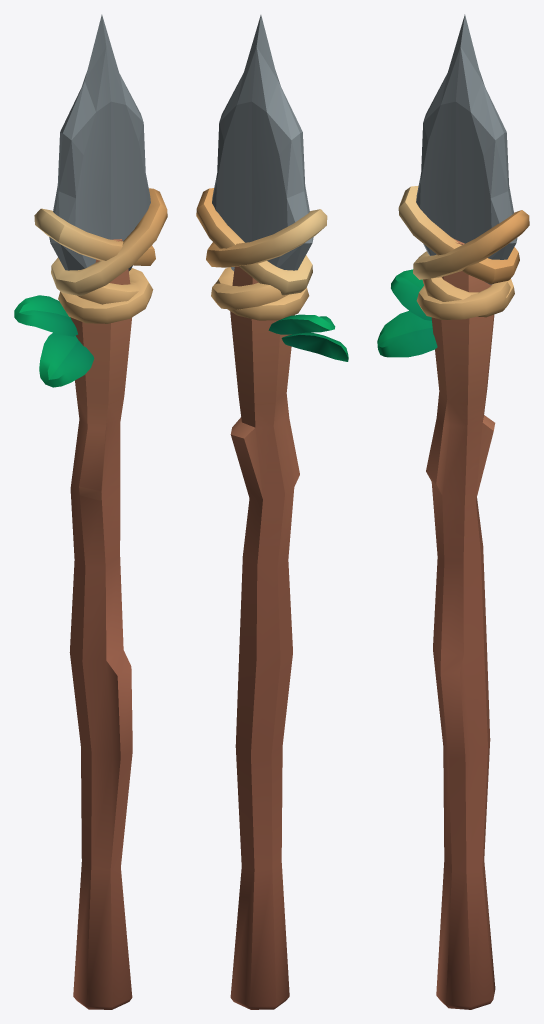
File: caveman-spear.glb
The picture shows the model from 3 angles, left to right: view 1: azimuth 30°, elevation 25°; view 2: azimuth 150°, elevation 25°; view 3: azimuth 330°, elevation 25°; orthographic projection.
Parts seen in each view (by area): view 1: Caveman_Spear; view 2: Caveman_Spear; view 3: Caveman_Spear.
Part boxes in pixels (x1,y1,x2,y2): Caveman_Spear: (14,14,167,1009); Caveman_Spear: (196,15,348,1009); Caveman_Spear: (377,14,529,1009).
Size of the model in its own units: 0.3649 by 2.49 by 0.2437.
Materials: 1 (1 with a texture image).
